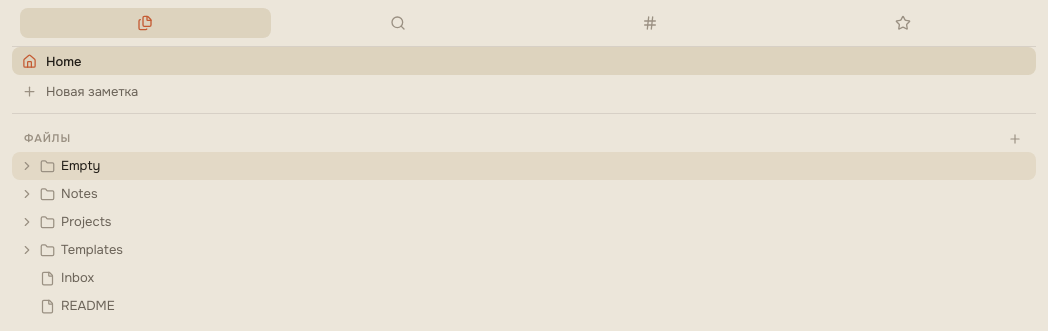
Test: Sidebar (Ф0-7 / DP-2) › клик по тегу → exact-фильтр (notesByTag, не searchVault) + чип тега
The width and height of the screenshot is (1048, 331).
Click the tab named "Теги": click(650, 23) x1=525 y1=8 x2=776 y2=38
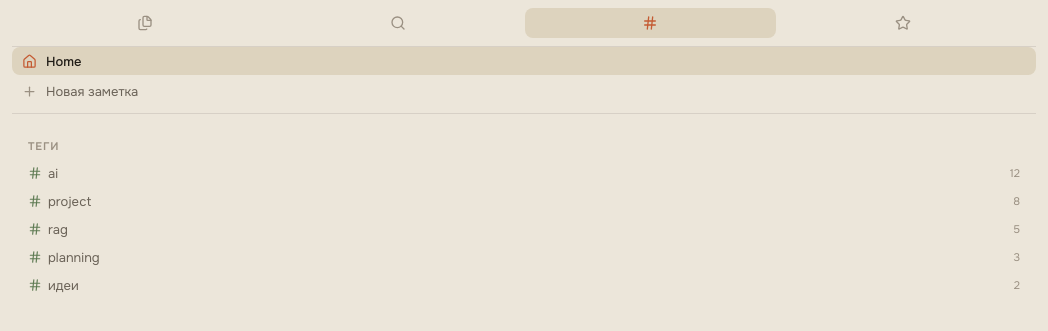
Click the button "planning 3": click(74, 257) x1=16 y1=243 x2=1032 y2=271
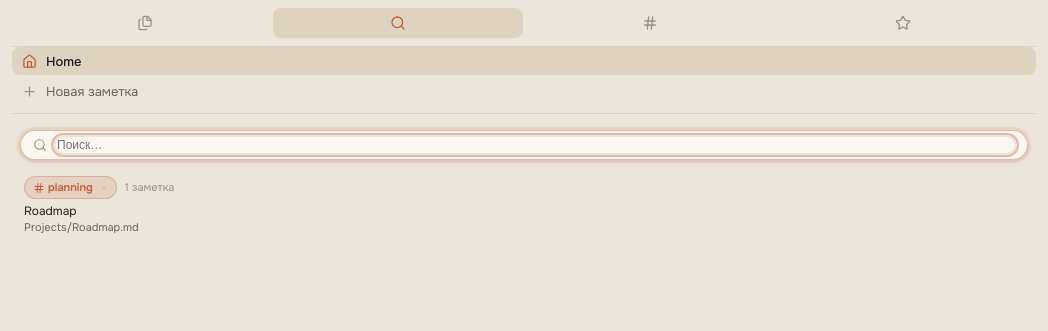
Check: the button named "Снять фильтр по тегу" is shown, box x1=96 y1=180 x2=112 y2=196
Check: the text "Projects/Roadmap.md" is shown, box x1=24 y1=220 x2=139 y2=234
